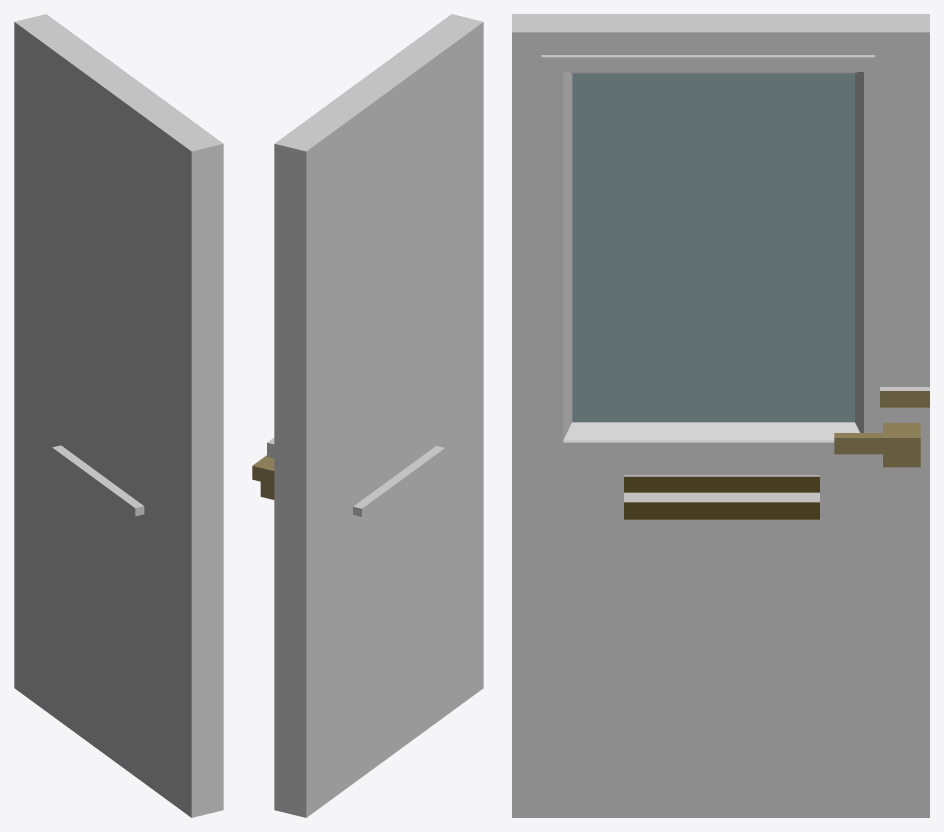
Rendered from FrontDoor.dae.
3 views of the same model, side by side, from view 1: azimuth 30°, elevation 25°; view 2: azimuth 150°, elevation 25°; view 3: azimuth 270°, elevation 25° (orthographic). The views are drawn at different scales.
Parts seen in each view (by area): view 1: SketchUp (×3); view 2: SketchUp (×4); view 3: SketchUp (×10).
Boxes of the visible parts, x1,y1,x2,y2 form: SketchUp (×3): (14,14,223,817); SketchUp (×4): (252,14,483,817); SketchUp (×10): (512,14,929,817).
Bounding box in the file's own units: 13.62 × 62.5 × 130.
